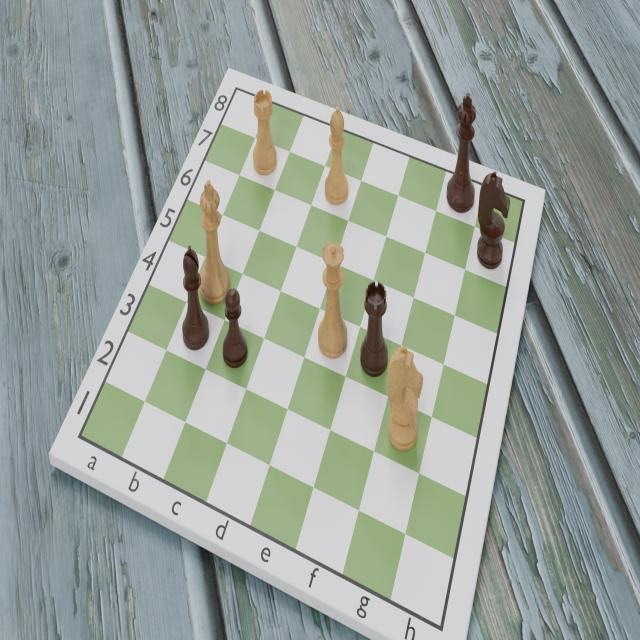black-bishop: (178, 241, 209, 351)
black-king: (447, 92, 479, 216)
black-knight: (474, 168, 509, 275)
black-pawn: (220, 285, 250, 370)
black-rook: (358, 276, 391, 379)
white-bishop: (321, 103, 351, 211)
white-king: (196, 176, 231, 308)
white-knight: (385, 344, 423, 458)
white-queen: (315, 235, 349, 360)
white-rook: (251, 89, 279, 176)
